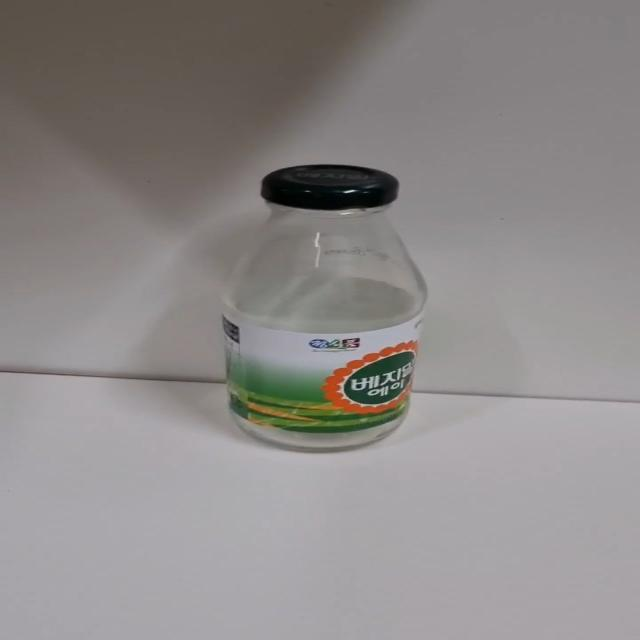Glass: (220, 166, 430, 448)
